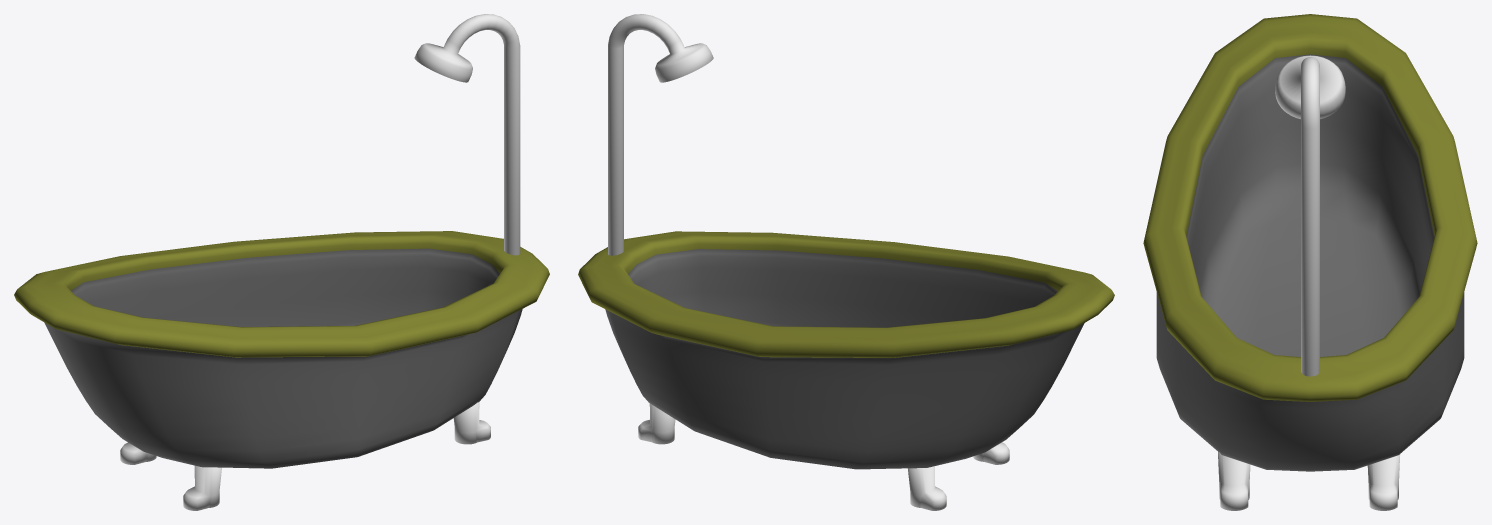
Rendered from Banheira.fbx.
3 renders of one model, left to right at view 1: azimuth 30°, elevation 25°; view 2: azimuth 150°, elevation 25°; view 3: azimuth 270°, elevation 25°, orthographic. The views are drawn at different scales.
Parts seen in each view (by area): view 1: Cube.038, Cylinder.019, Cylinder.020, Cylinder.021; view 2: Cube.038, Cylinder.019, Cylinder.022, Cylinder.023; view 3: Cube.038, Cylinder.019, Cylinder.021, Cylinder.023.
Part boxes in pixels (<box>): Cube.038: <box>14,231,549,468</box>; Cylinder.019: <box>414,14,520,255</box>; Cylinder.020: <box>183,465,221,510</box>; Cylinder.021: <box>453,402,490,444</box>; Cube.038: <box>578,231,1114,469</box>; Cylinder.019: <box>608,14,713,255</box>; Cylinder.022: <box>908,466,946,510</box>; Cylinder.023: <box>638,403,675,444</box>; Cube.038: <box>1143,14,1477,471</box>; Cylinder.019: <box>1275,55,1345,376</box>; Cylinder.021: <box>1218,451,1250,510</box>; Cylinder.023: <box>1367,454,1400,510</box>.
Size of the model in its own units: 2203 by 1623 by 1063.
